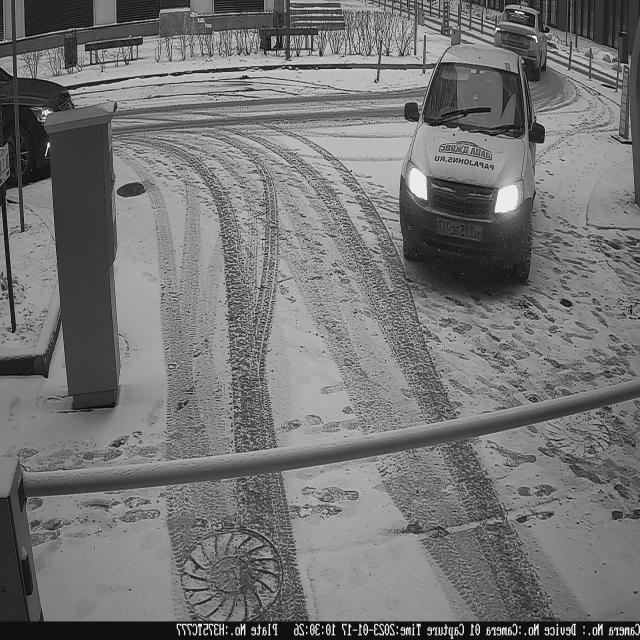car-plate-numbers: (436, 210, 488, 246)
